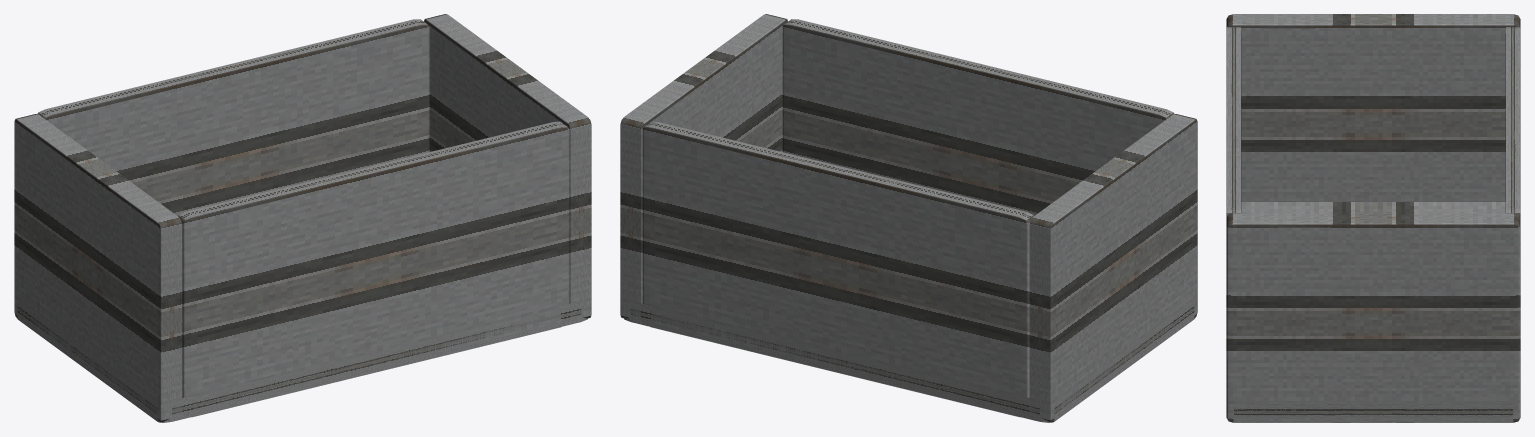
Rendered from cutlery.glb.
3 renders of one model, left to right at view 1: azimuth 30°, elevation 25°; view 2: azimuth 150°, elevation 25°; view 3: azimuth 270°, elevation 25°, orthographic.
Visible parts, largest first — view 1: edge (×2), side (×2), bottom; view 2: edge (×2), side (×2), bottom; view 3: side (×2), bottom, edge (×2).
Part boxes in pixels (left/top/right/bottom): edge (×2): left=37, top=19, right=570, bottom=417; side (×2): left=14, top=14, right=591, bottom=422; bottom: left=17, top=299, right=587, bottom=422; edge (×2): left=641, top=19, right=1174, bottom=417; side (×2): left=620, top=14, right=1197, bottom=422; bottom: left=624, top=299, right=1194, bottom=422; side (×2): left=1226, top=14, right=1520, bottom=422; bottom: left=1233, top=202, right=1513, bottom=422; edge (×2): left=1226, top=27, right=1520, bottom=217.
Bounding box in the file's own units: 0.27 × 0.12 × 0.16.
1 material, 1 textured.
